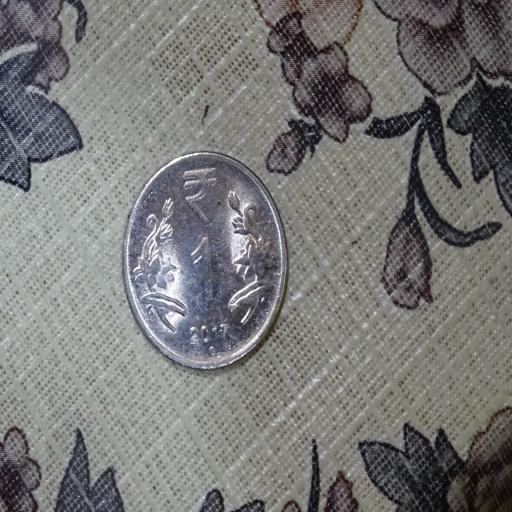rupee1: (121, 152, 286, 370)
